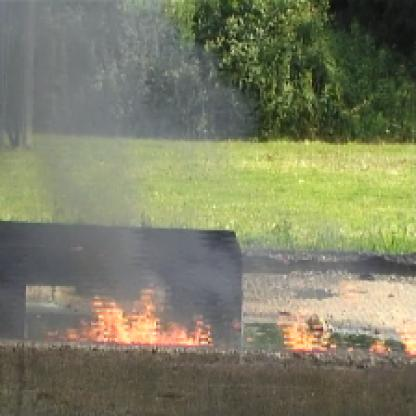Fire: (39, 271, 227, 347), (264, 308, 414, 362)
Smoke: (2, 2, 226, 288)
